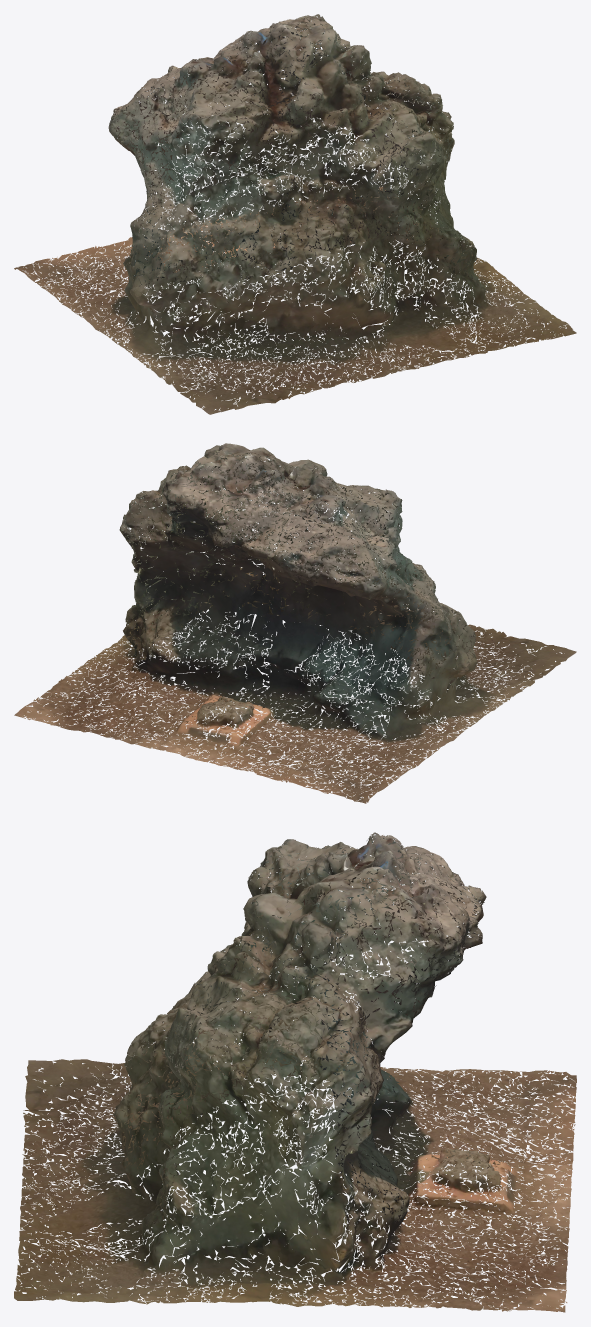
File: blister.glb
3 views of the same model, one above another, from view 1: azimuth 30°, elevation 25°; view 2: azimuth 150°, elevation 25°; view 3: azimuth 270°, elevation 25° (orthographic). The views are drawn at different scales.
Parts seen in each view (by area): view 1: Object_14, Object_7, Object_13, Object_4, Object_15, Object_16, Object_3, Object_6, Object_8, Object_2, Object_10, Object_11 (+3 smaller); view 2: Object_12, Object_13, Object_11, Object_5, Object_4, Object_10, Object_3, Object_6, Object_14, Object_9, Object_16, Object_2 (+4 smaller); view 3: Object_5, Object_2, Object_6, Object_12, Object_14, Object_10, Object_11, Object_3, Object_15, Object_8, Object_13, Object_4 (+4 smaller).
Part boxes in pixels (x1,y1,x2,y2): Object_14: (130, 161, 534, 414); Object_7: (152, 81, 443, 371); Object_13: (14, 193, 291, 392); Object_4: (113, 43, 395, 245); Object_15: (108, 14, 576, 389); Object_16: (39, 159, 572, 410); Object_3: (156, 16, 439, 173); Object_6: (123, 168, 477, 382); Object_8: (150, 18, 531, 378); Object_2: (340, 71, 454, 261); Object_10: (137, 15, 449, 224); Object_11: (109, 44, 484, 264); Object_12: (129, 567, 412, 785); Object_13: (247, 583, 543, 803); Object_11: (67, 465, 431, 760); Object_5: (17, 564, 346, 737); Object_4: (115, 467, 412, 727); Object_10: (163, 449, 442, 627); Object_3: (166, 443, 346, 576); Object_6: (175, 498, 458, 717); Object_14: (242, 551, 576, 688); Object_9: (14, 490, 472, 733); Object_16: (197, 550, 564, 793); Object_2: (119, 465, 305, 602); Object_5: (128, 1067, 568, 1311); Object_2: (158, 947, 383, 1210); Object_6: (20, 950, 397, 1262); Object_12: (264, 1069, 573, 1290); Object_14: (17, 970, 348, 1273); Object_10: (197, 832, 465, 1090); Object_11: (263, 839, 571, 1307); Object_3: (182, 864, 483, 1073); Object_15: (14, 835, 572, 1310); Object_8: (22, 835, 486, 1300); Object_13: (112, 954, 576, 1162); Object_4: (226, 836, 504, 1272).
Size of the model in its own units: 3.03 by 1.98 by 2.97.
2 materials, 2 textured.
